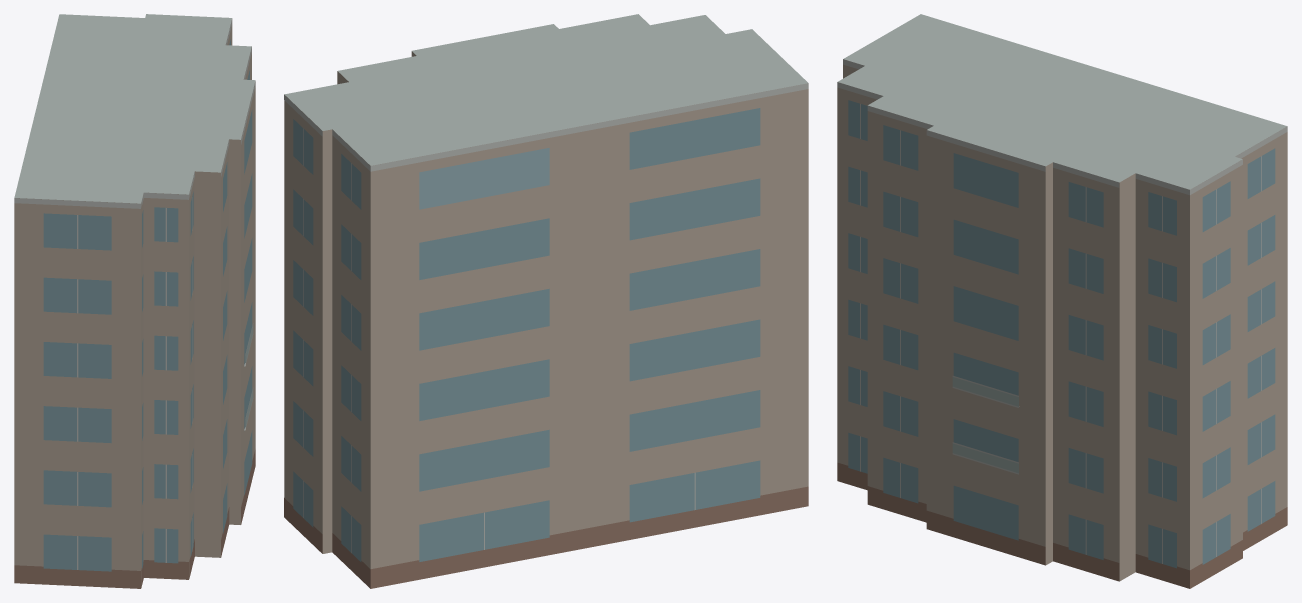
File: survey-upis-33033512.glb
3 renders of one model, left to right at view 1: azimuth 30°, elevation 25°; view 2: azimuth 150°, elevation 25°; view 3: azimuth 270°, elevation 25°, orthographic. The views are drawn at different scales.
Parts seen in each view (by area): view 1: survey-upis-33033512.tmp; view 2: survey-upis-33033512.tmp; view 3: survey-upis-33033512.tmp.
Part boxes in pixels (x1=…): survey-upis-33033512.tmp: x1=14, y1=14, x2=255, y2=588; survey-upis-33033512.tmp: x1=284, y1=14, x2=808, y2=588; survey-upis-33033512.tmp: x1=837, y1=14, x2=1287, y2=588.
Size of the model in its own units: 16.78 by 17.75 by 18.16.
